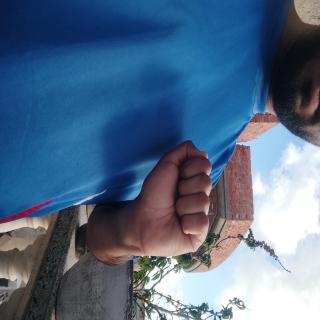SAD: (103, 139, 200, 250)
